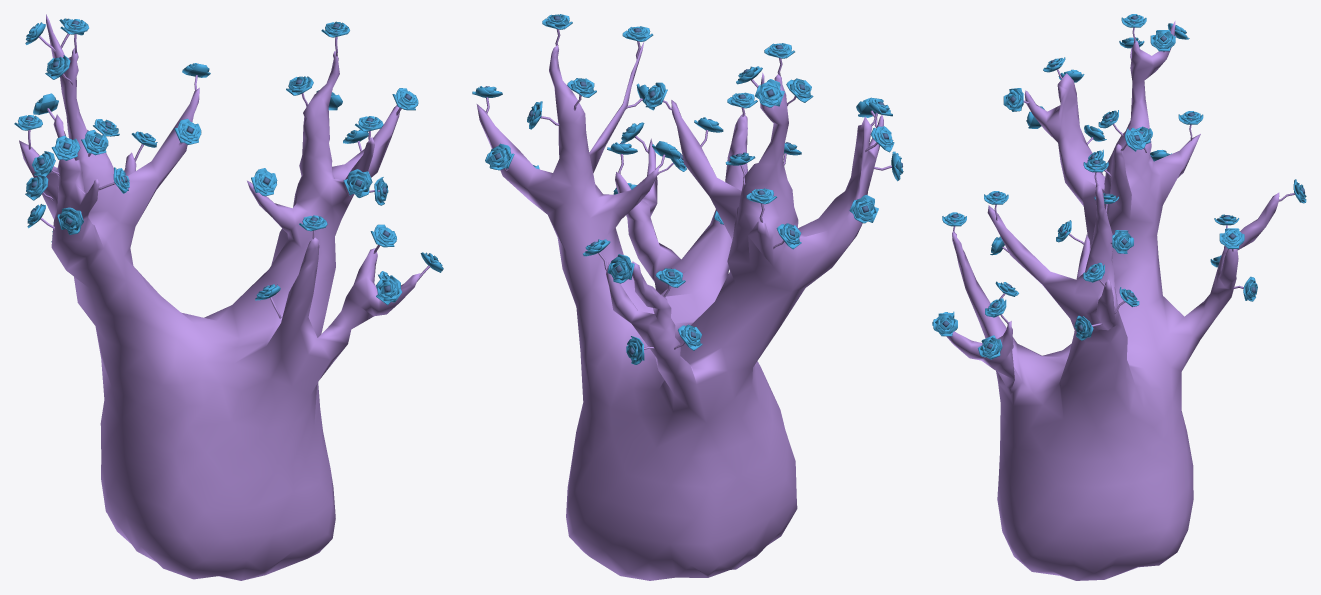
Rendered from tree1old.fbx.
The picture shows the model from 3 angles, left to right: view 1: azimuth 30°, elevation 25°; view 2: azimuth 150°, elevation 25°; view 3: azimuth 270°, elevation 25°; orthographic projection. The views are drawn at different scales.
Visible parts, largest first — view 1: Cube, Cube.032, Cube.012, Cube.018; view 2: Cube, Cube.003, Cube.013, Cube.029, Cube.028; view 3: Cube.
Boxes of the visible parts, x1,y1,x2,y2 form: Cube: (19,14,420,580); Cube.032: (343,169,372,197); Cube.012: (376,276,402,305); Cube.018: (251,168,277,196); Cube: (476,42,883,580); Cube.003: (755,79,784,107); Cube.013: (849,195,878,223); Cube.029: (607,254,634,283); Cube.028: (485,143,514,170); Cube: (946,21,1279,580).
Bounding box in the file's own units: 172 × 227 × 158.
